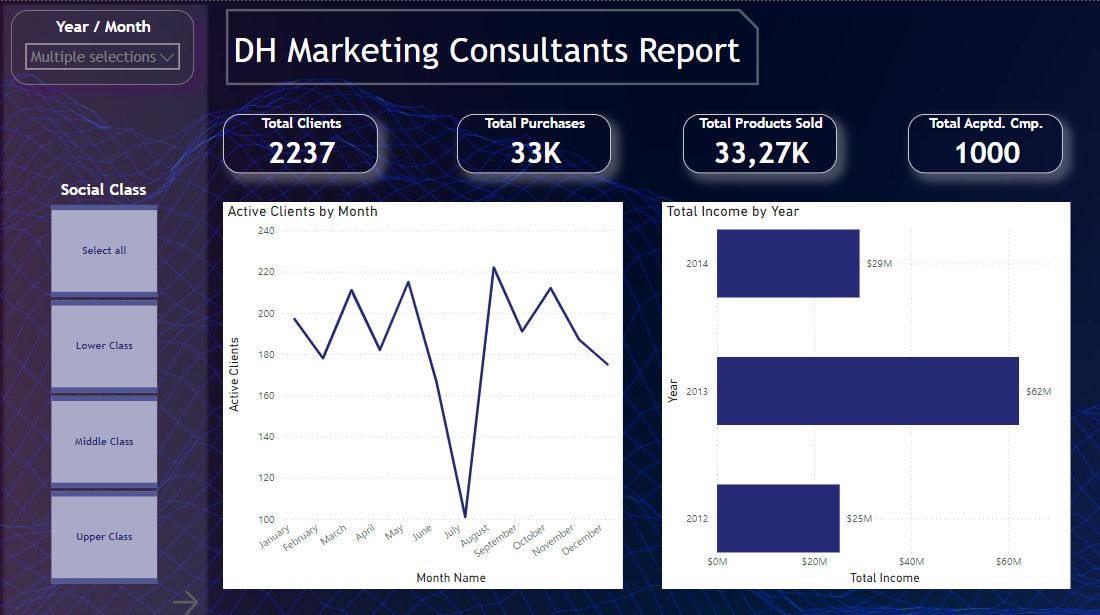

Layout of this report page (visuals, bound fields, positions):
{"tool":"powerbi","page":{"name":"General Dashboard","canvas":[1280,720],"ordinal":0},"visuals":[{"type":"card","title":"Total Purchases","fields":{"Values":["Total Participantes Campaña 1.Total Purchases"]},"box":[531.8,131.9,179.4,68.6],"z":0},{"type":"shape","box":[0,0,245,720],"z":1000},{"type":"card","title":"Total Clients","fields":{"Values":["Measure.Total Clients"]},"box":[259.6,131.9,180.4,68.6],"z":2000},{"type":"card","title":"Total Products Sold","fields":{"Values":["Measure.Total products sold"]},"box":[794.6,131.9,179.4,68.6],"z":3000},{"type":"card","title":"Total Acptd. Cmp.","fields":{"Values":["Measure.Total Accepted Cmp"]},"box":[1055.2,131.9,180.4,68.6],"z":4000},{"type":"barChart","fields":{"Y":["Measure.Total Income"],"Category":["DimFecha.Year"]},"box":[770.3,234.3,474.9,449.5],"z":5000},{"type":"lineChart","title":"Active Clients by Month ","fields":{"Category":["DimFecha.Month Name"],"Y":["CountNonNull(DimCliente.ID)"]},"box":[259.6,234.3,465.4,449.5],"z":6000},{"type":"shape","box":[254,0,638,107],"z":7000},{"type":"slicer","title":"Year / Month","fields":{"Values":["DimFecha.Year","DimFecha.Month Name"]},"box":[13,10,213,87],"z":8000},{"type":"slicer","title":"Social Class","fields":{"Values":["DimCliente.SocialClass"]},"box":[33.8,207.9,173.1,475.9],"z":9000},{"type":"actionButton","box":[194.8,680,43.4,39.5],"z":9001}]}

Visuals, with their boxes in screenshot pixels (x1, y1, x2, y2), scaled from the page's 1280x720 canvas onto the 1100x615 screenshot:
"Total Purchases" card: box=[457, 113, 611, 171]
shape: box=[0, 0, 211, 614]
"Total Clients" card: box=[223, 113, 378, 171]
"Total Products Sold" card: box=[683, 113, 837, 171]
"Total Acptd. Cmp." card: box=[907, 113, 1062, 171]
barChart - Measure.Total Income x DimFecha.Year: box=[662, 200, 1070, 584]
"Active Clients by Month " lineChart: box=[223, 200, 623, 584]
shape: box=[218, 0, 767, 91]
"Year / Month" slicer: box=[11, 9, 194, 83]
"Social Class" slicer: box=[29, 178, 178, 584]
actionButton: box=[167, 581, 205, 614]
